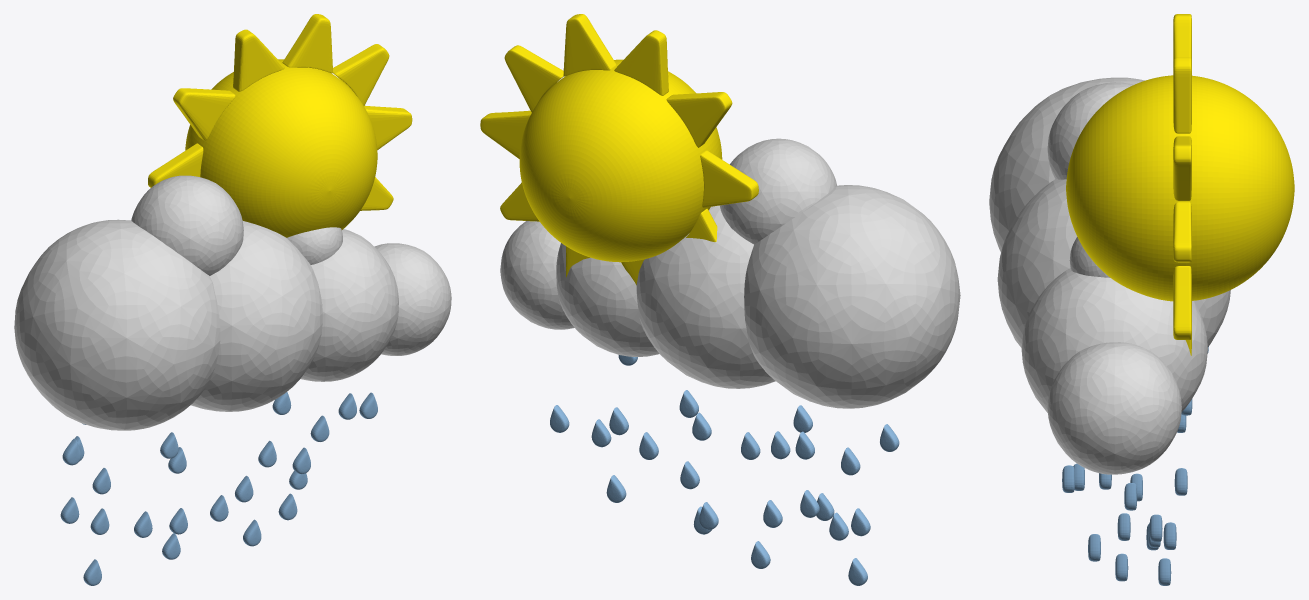
File: rainy day.fbx
The picture shows the model from 3 angles, left to right: view 1: azimuth 30°, elevation 25°; view 2: azimuth 150°, elevation 25°; view 3: azimuth 270°, elevation 25°; orthographic projection. The views are drawn at different scales.
Parts seen in each view (by area): view 1: qw.010, Сфера; view 2: qw.010, Сфера; view 3: qw.010, Сфера.
Part boxes in pixels (x1=…): qw.010: x1=14, y1=175, x2=451, y2=430; Сфера: x1=148, y1=14, x2=412, y2=237; qw.010: x1=500, y1=138, x2=960, y2=408; Сфера: x1=480, y1=14, x2=758, y2=285; qw.010: x1=989, y1=77, x2=1230, y2=474; Сфера: x1=1066, y1=14, x2=1294, y2=355.
Size of the model in its own units: 414 by 224 by 474.
